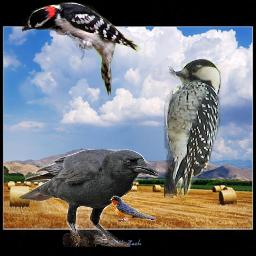Crow: (18, 149, 159, 247)
Swallow: (109, 195, 156, 223)
Woodpecker: (22, 1, 141, 98), (164, 58, 221, 198)
